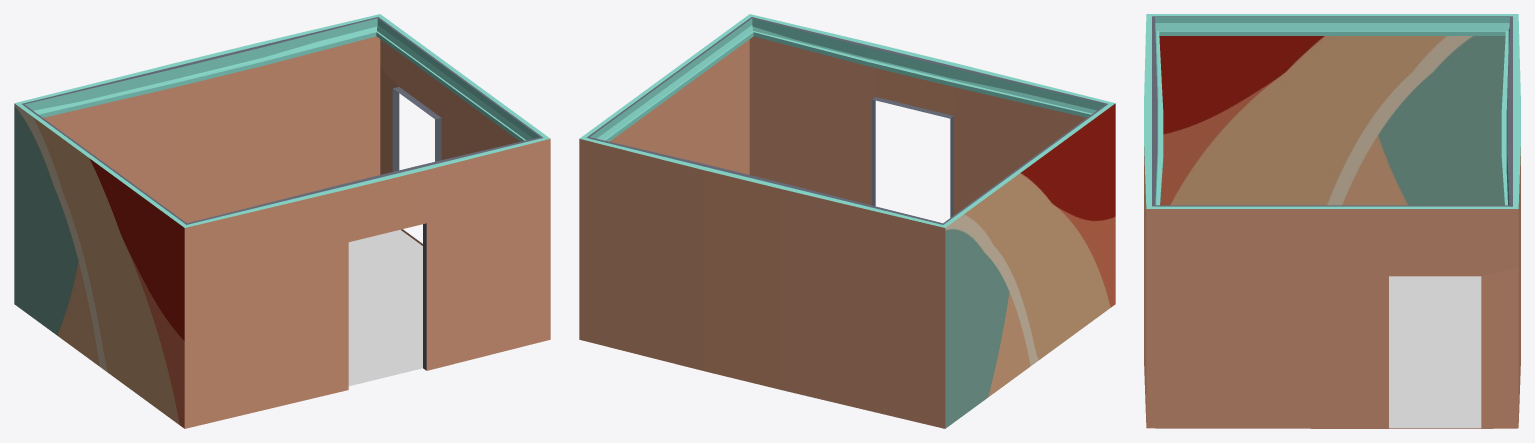
File: Chambre_enfant_mur.fbx
3 renders of one model, left to right at view 1: azimuth 30°, elevation 25°; view 2: azimuth 150°, elevation 25°; view 3: azimuth 270°, elevation 25°, orthographic. The views are drawn at different scales.
Visible parts, largest first — view 1: Chambre_enfant; view 2: Chambre_enfant; view 3: Chambre_enfant.
Boxes of the visible parts, bbox=[...] form: Chambre_enfant: bbox=[14, 14, 550, 428]; Chambre_enfant: bbox=[579, 14, 1115, 428]; Chambre_enfant: bbox=[1144, 14, 1520, 428].
Bounding box in the file's own units: 670 × 350 × 544.
Materials: 4 (1 with a texture image).
